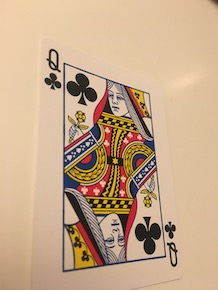QueenOfClubs: (31, 30, 186, 290)
